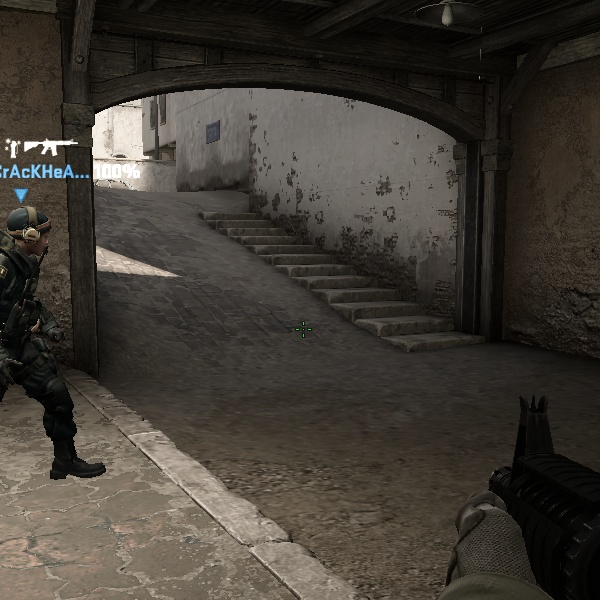ct_body: (0, 195, 89, 485)
ct_head: (0, 200, 56, 265)
